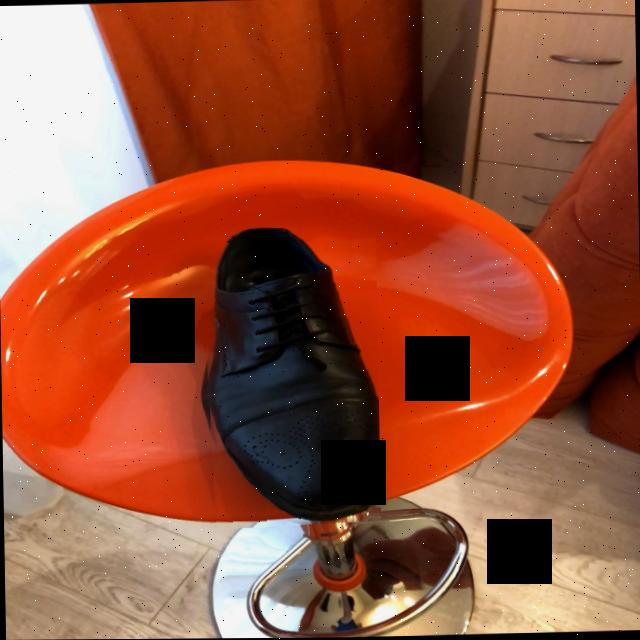shoe: (208, 228, 380, 526)
